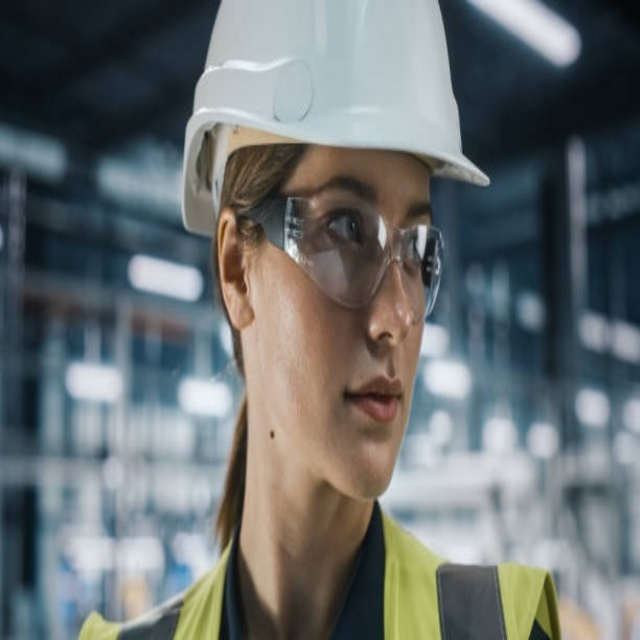Gafas: (236, 192, 446, 320)
Sin_mascara: (333, 348, 411, 486)
